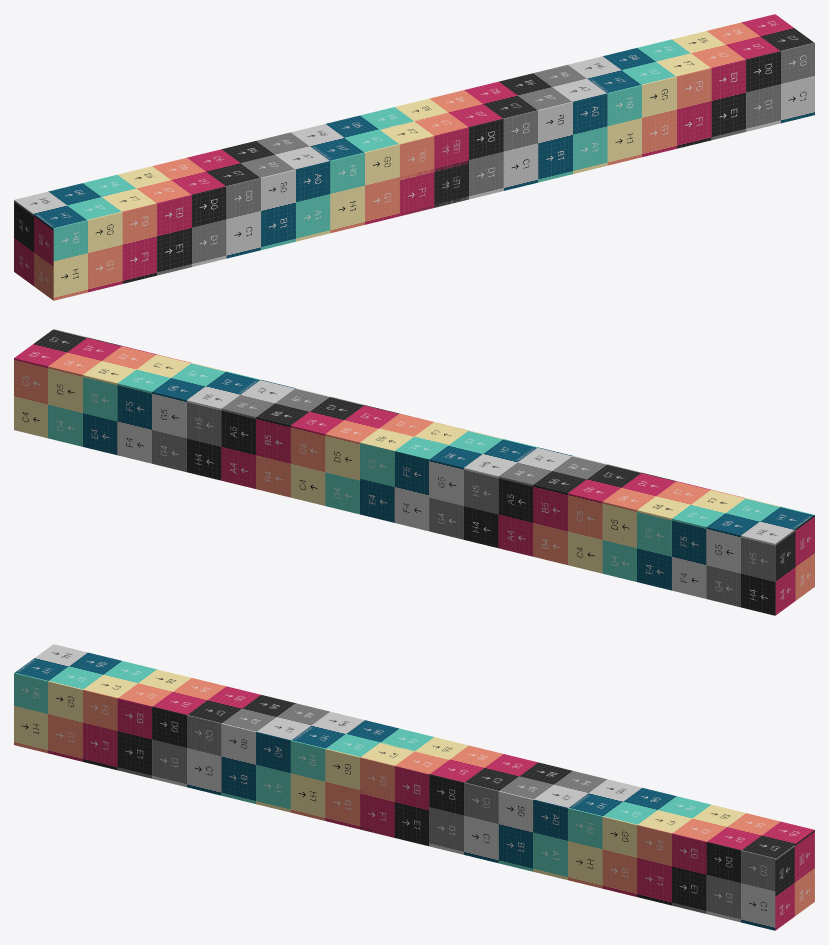
Rendered from manualMorphCubes1.glb.
3 renders of one model, top to bottom at view 1: azimuth 30°, elevation 25°; view 2: azimuth 150°, elevation 25°; view 3: azimuth 330°, elevation 25°, orthographic.
Visible parts, largest first — view 1: Cube.001, Cube; view 2: Cube.001, Cube; view 3: Cube.001, Cube.
Boxes of the visible parts, x1,y1,x2,y2 form: Cube.001: [14, 14, 814, 300]; Cube: [361, 98, 468, 216]; Cube.001: [14, 329, 814, 615]; Cube: [360, 414, 468, 531]; Cube.001: [14, 644, 814, 930]; Cube: [360, 729, 468, 846].
Bounding box in the file's own units: 22.16 × 2 × 2.
1 material, 1 textured.
